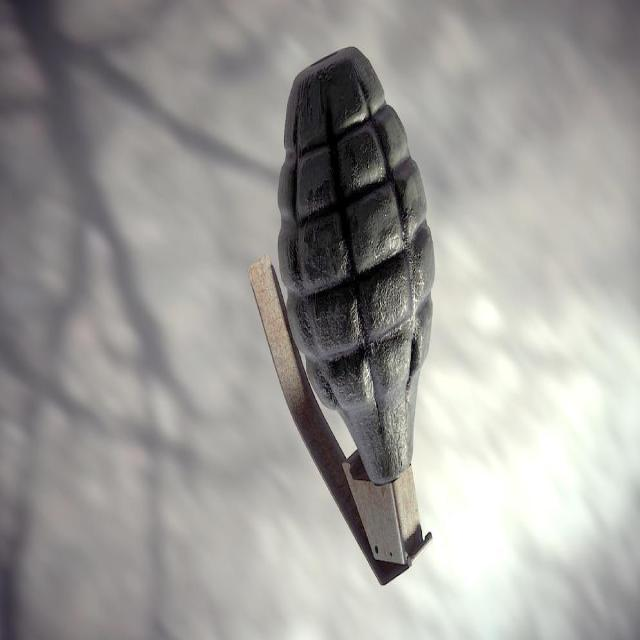grenade: (247, 47, 437, 587)
